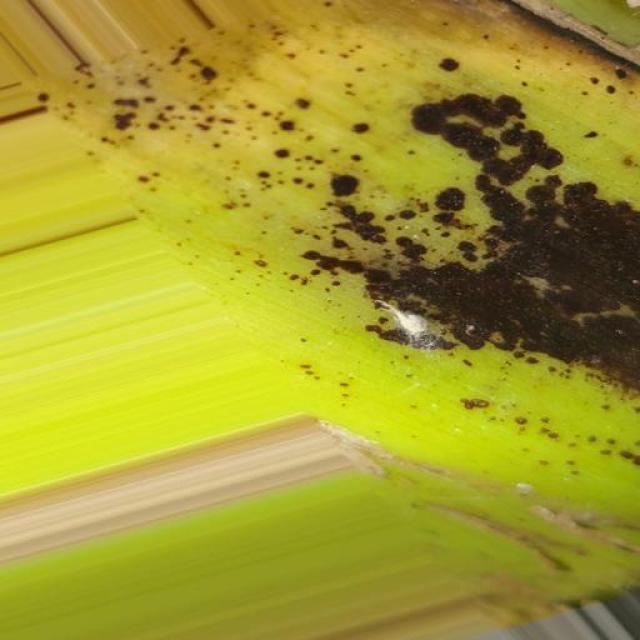Anthracnose: (11, 3, 640, 617)
